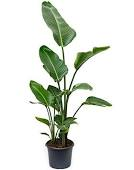plant: (29, 1, 112, 168)
